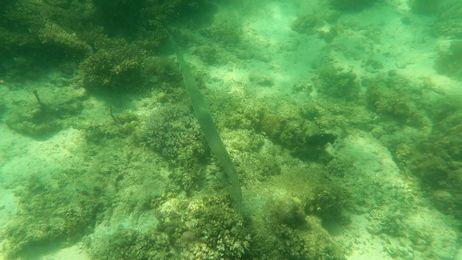Fistularia commersonii: (143, 36, 270, 240)
